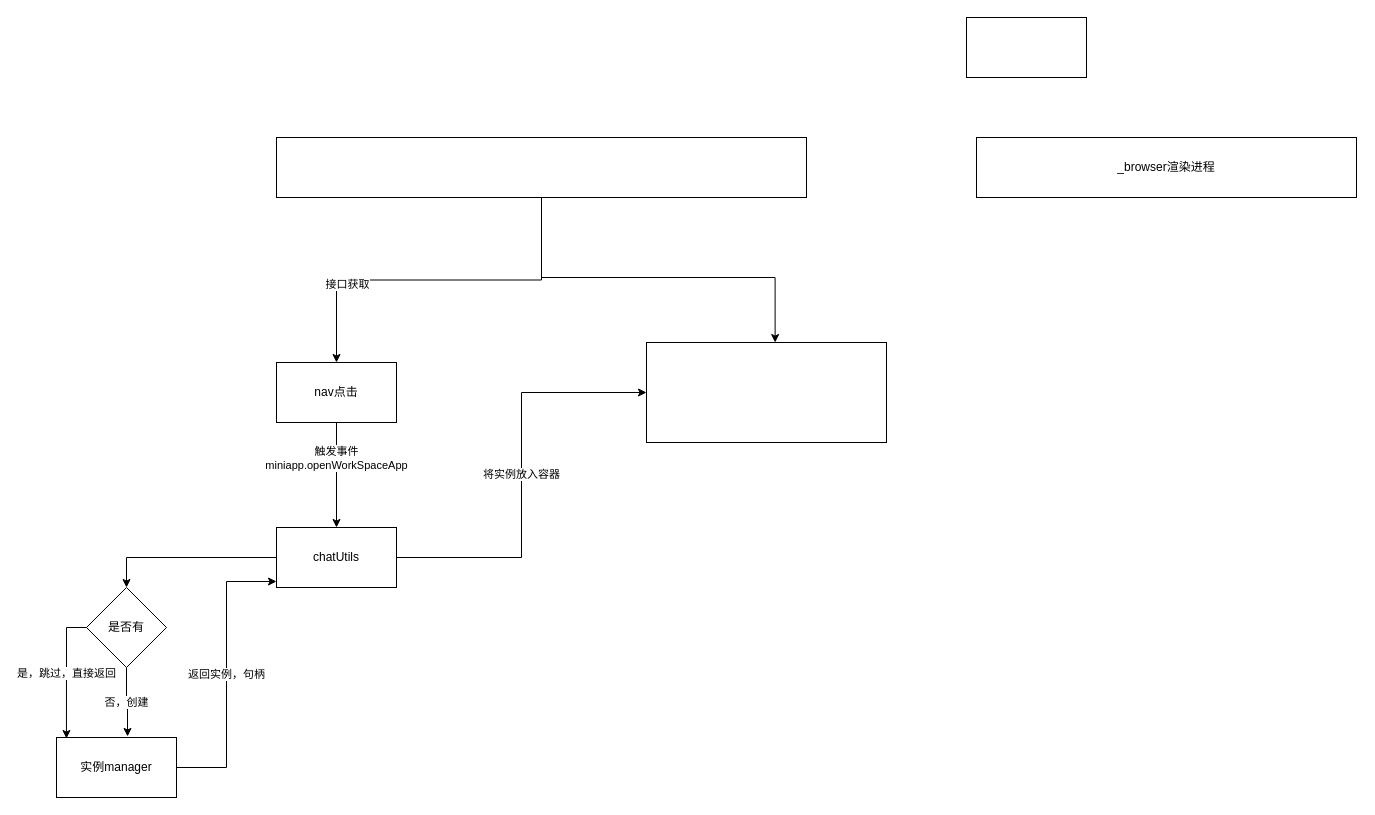
The diagram is 1375 pixels wide and 815 high, and some of its shapes have lost their labels. The centre of each missing label's shape, as x and y in pixels:
miniApp容器组件: pixel 766 392
主渲染进程: pixel 541 167
轻应用流程图: pixel 1026 47
